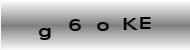6: (68, 18, 82, 32)
E: (139, 16, 151, 30)
K: (122, 16, 138, 31)
g: (37, 27, 52, 41)
o: (96, 21, 108, 32)
